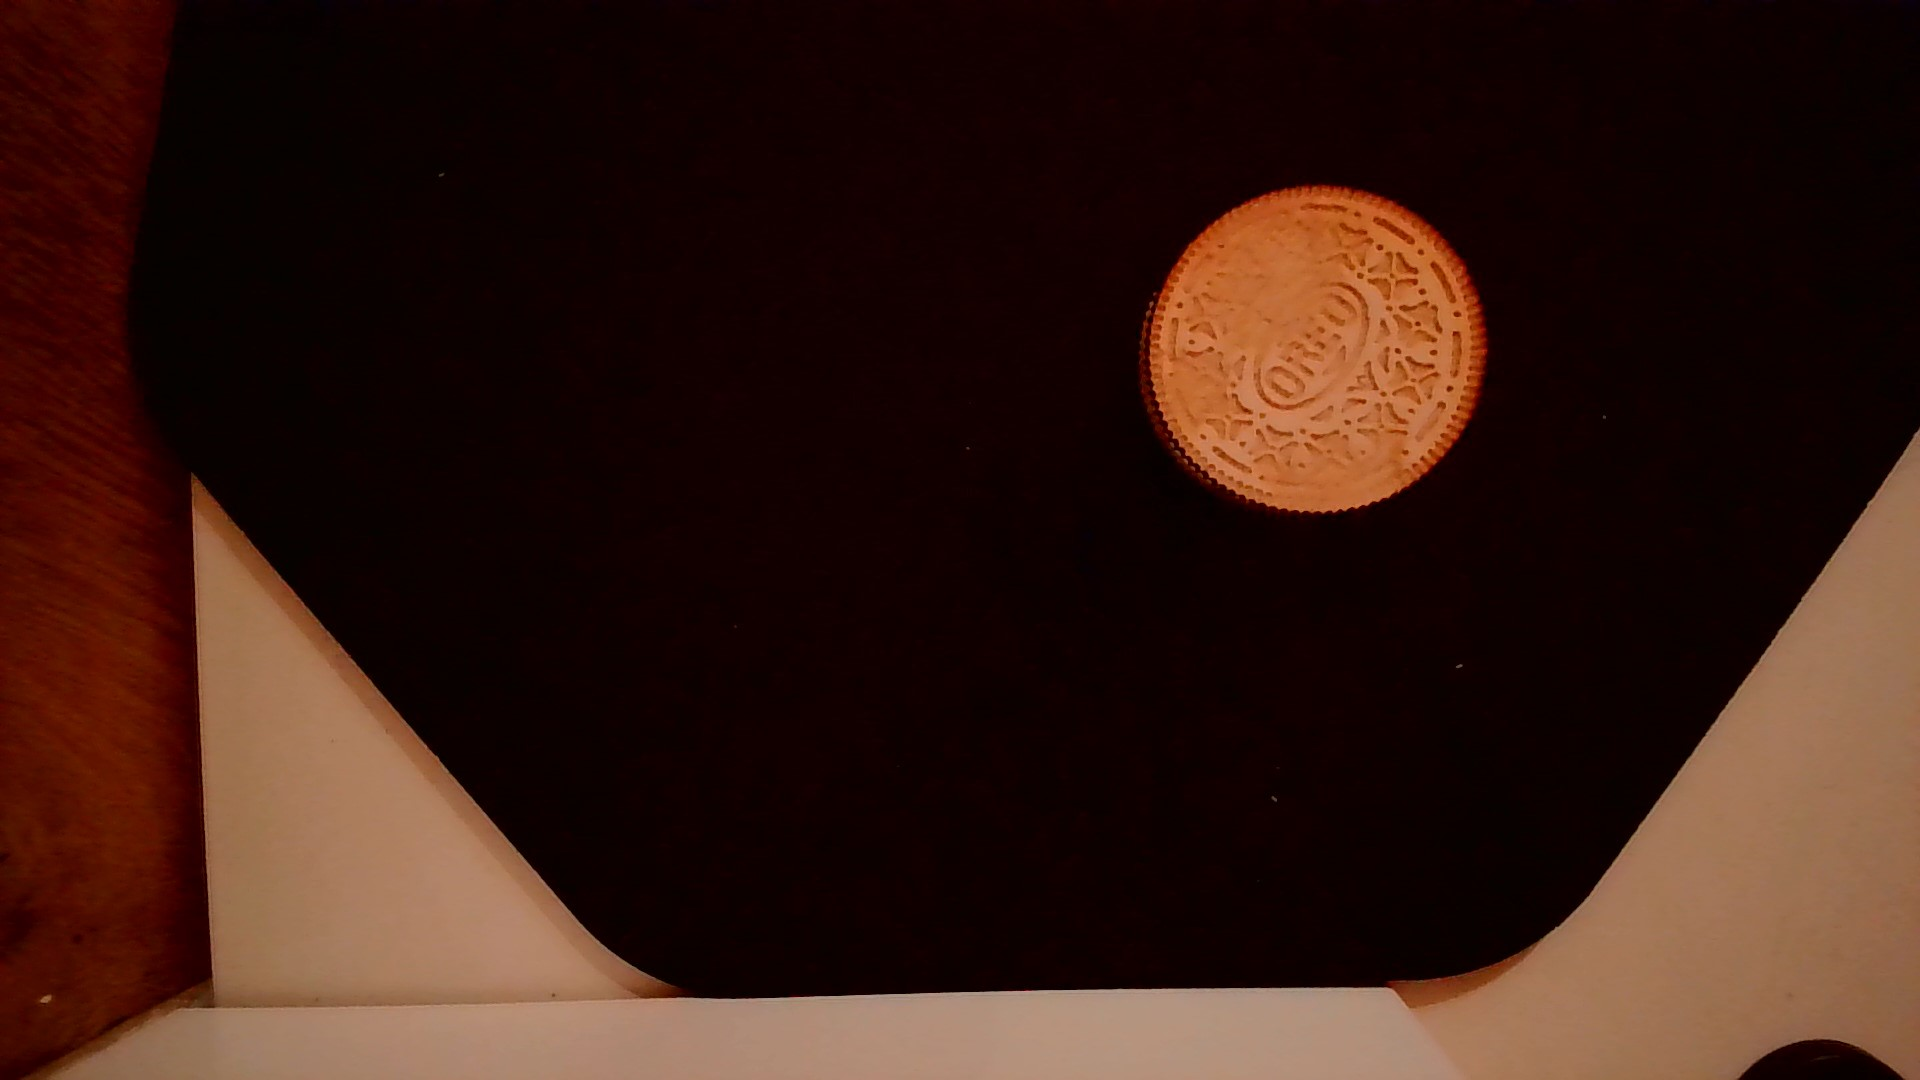Effacé: (1183, 194, 1332, 334), (1271, 456, 1406, 506), (1159, 345, 1230, 438)
Oréo: (1126, 178, 1494, 520)
